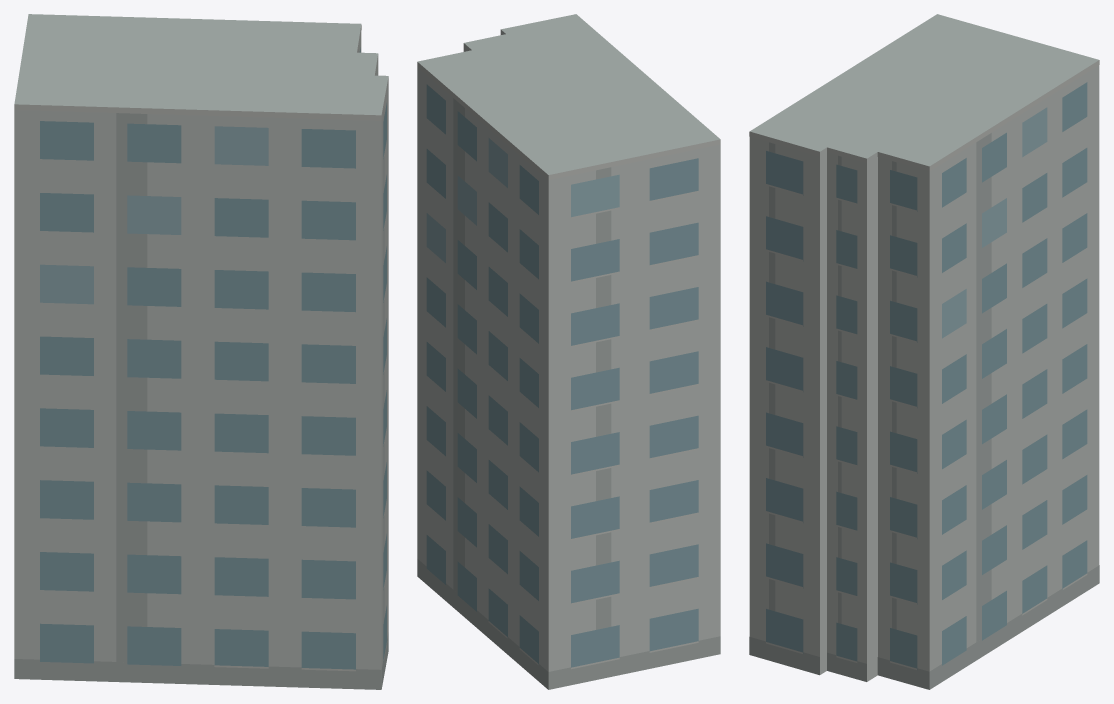
Rendered from survey-upis-32883207.glb.
3 renders of one model, left to right at view 1: azimuth 30°, elevation 25°; view 2: azimuth 150°, elevation 25°; view 3: azimuth 270°, elevation 25°, orthographic. The views are drawn at different scales.
Parts seen in each view (by area): view 1: survey-upis-32883207.tmp; view 2: survey-upis-32883207.tmp; view 3: survey-upis-32883207.tmp.
Part boxes in pixels (x1,y1,x2,y2): survey-upis-32883207.tmp: [14, 14, 388, 689]; survey-upis-32883207.tmp: [417, 14, 720, 689]; survey-upis-32883207.tmp: [749, 14, 1099, 689].
Size of the model in its own units: 15.37 by 24.6 by 14.91.
